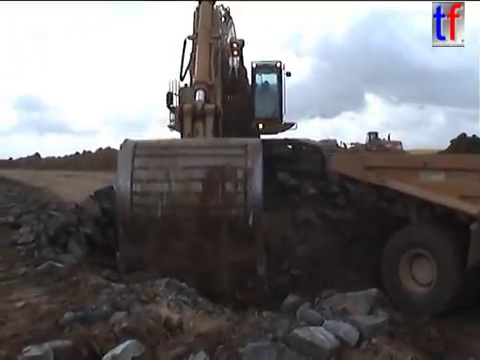excavator: (108, 1, 341, 304)
truck: (322, 146, 480, 321)
wheel loader: (337, 130, 406, 161)
